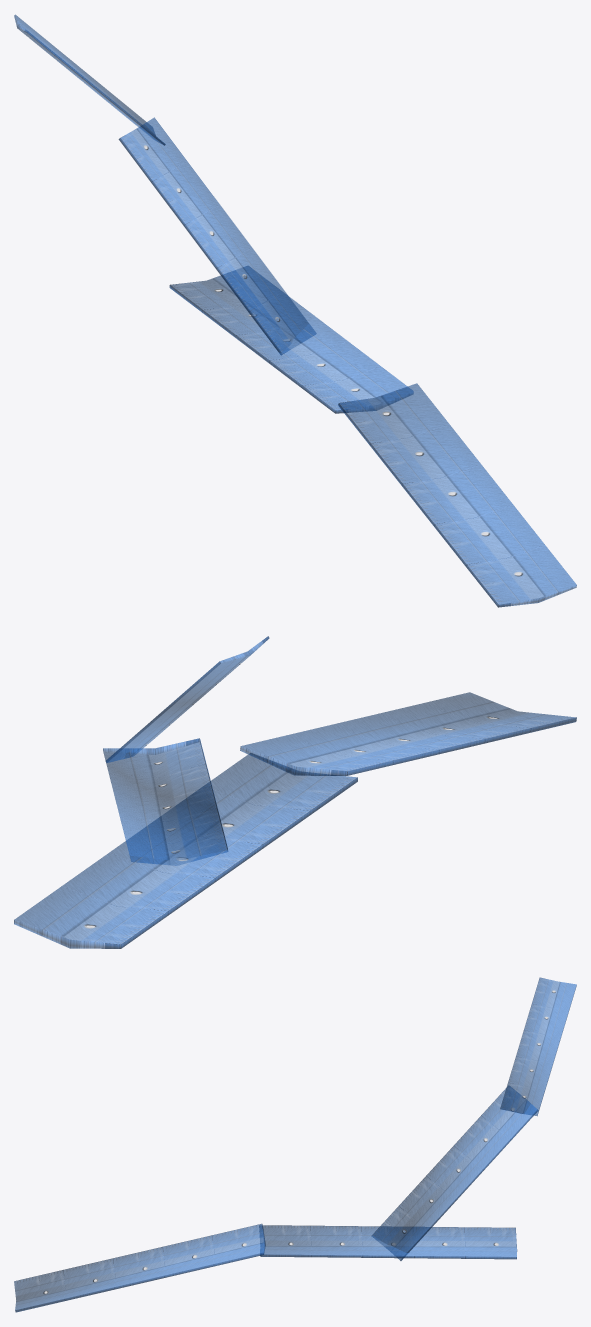
File: easter_egg_ruler.glb
3 views of the same model, one above another, from view 1: azimuth 30°, elevation 25°; view 2: azimuth 150°, elevation 25°; view 3: azimuth 270°, elevation 25° (orthographic). The views are drawn at different scales.
Visible parts, largest first — view 1: ruler.png__; view 2: ruler.png__; view 3: ruler.png__.
Part boxes in pixels (x1,y1,x2,y2): ruler.png__: (14,14,576,607); ruler.png__: (14,636,576,948); ruler.png__: (14,977,576,1312).
Bounding box in the file's own units: 6.47 × 10.72 × 20.41.
1 material, 1 textured.
